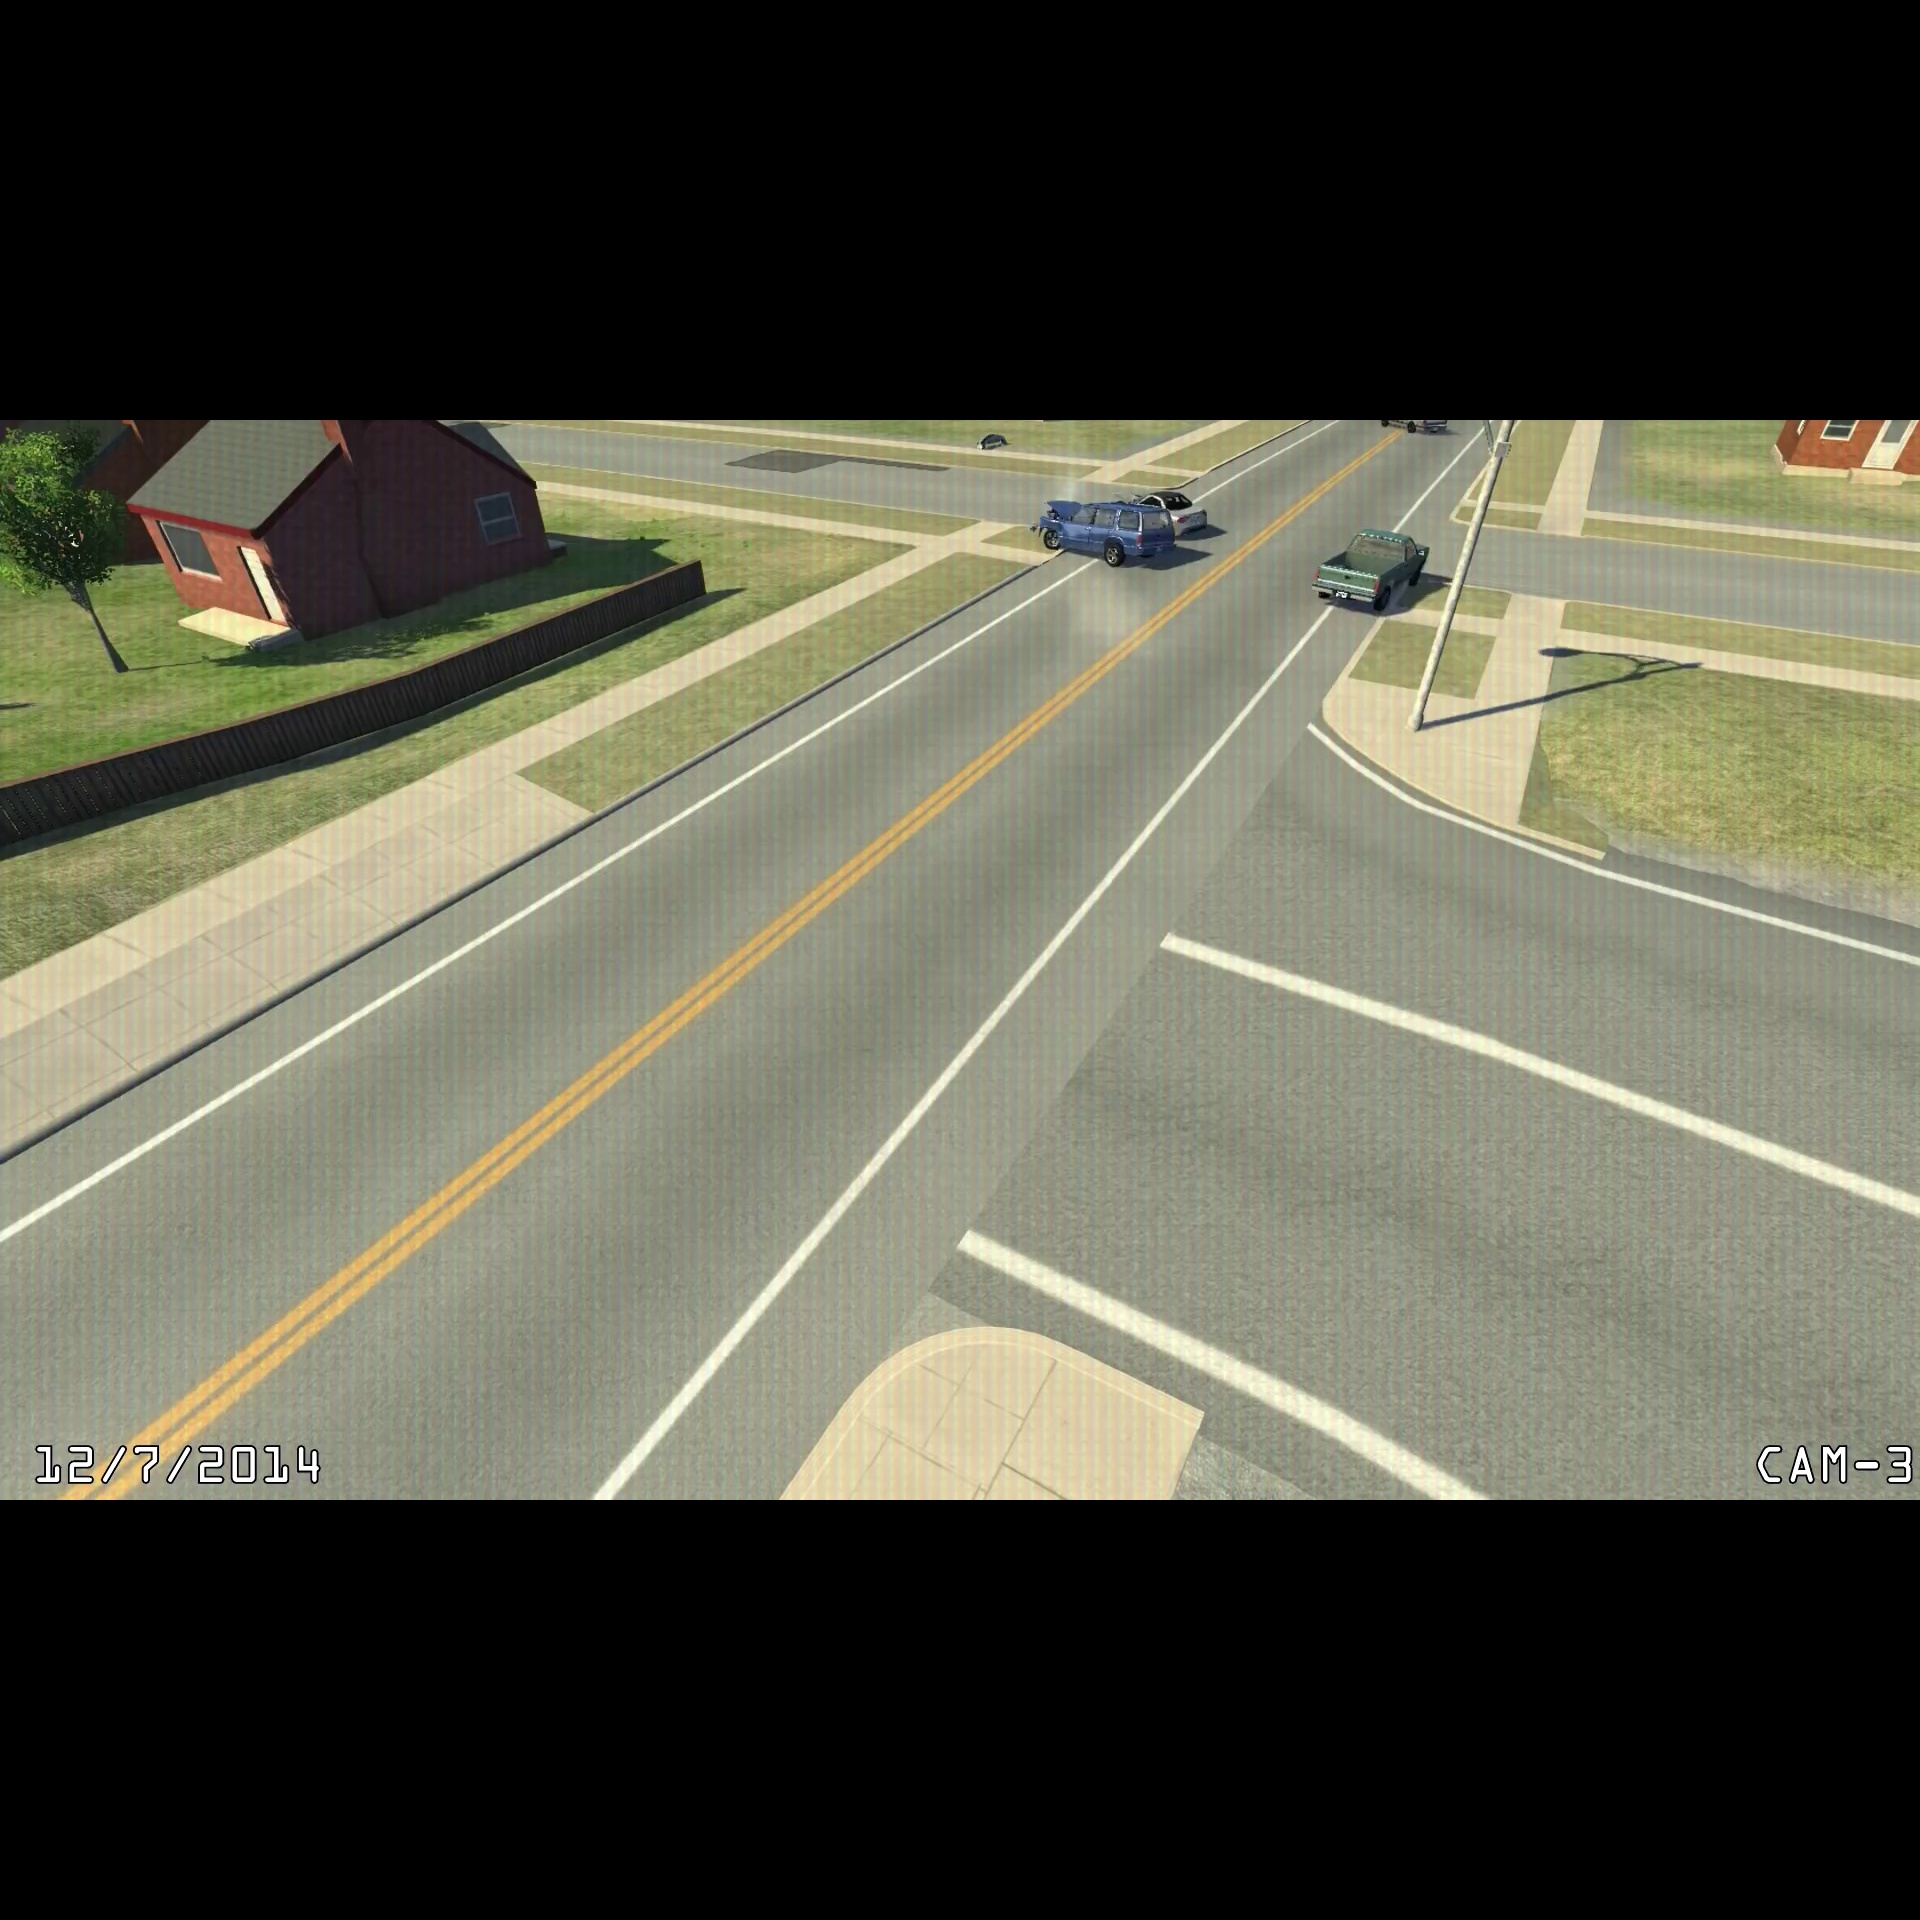vehicle: (1305, 519, 1442, 619), (1030, 496, 1178, 570), (1136, 484, 1211, 536)
